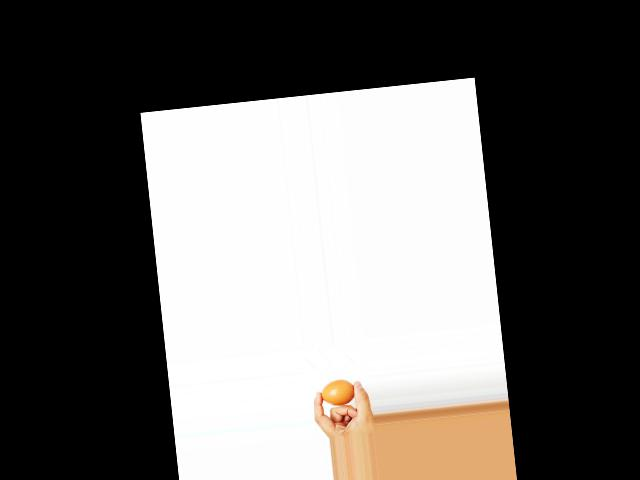egg: (319, 377, 355, 407)
